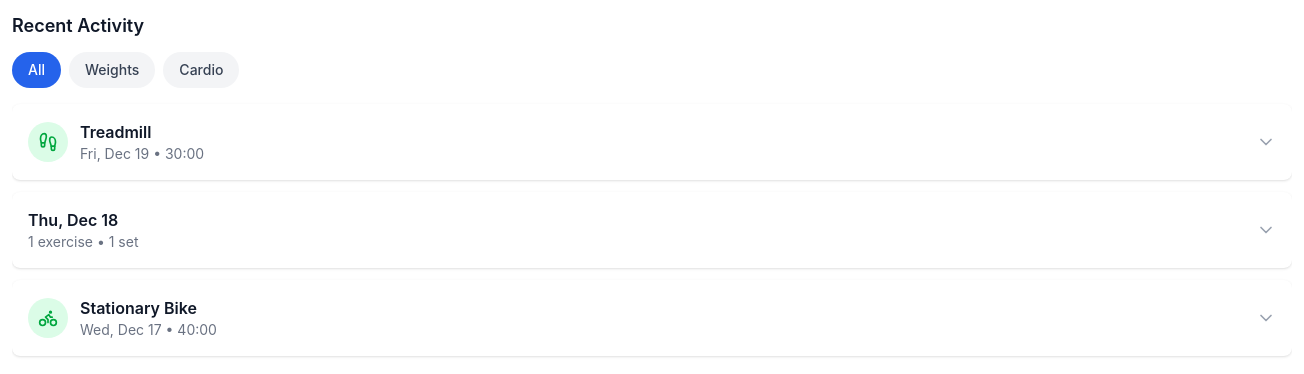
Test: ActivityList › should show all activities when All filter is clicked
// First filter to cardio
What coordinates should you click on to do the following:
click the button "Cardio"
I would click on:
 (201, 70)
Its box is left=163, top=52, right=239, bottom=88.
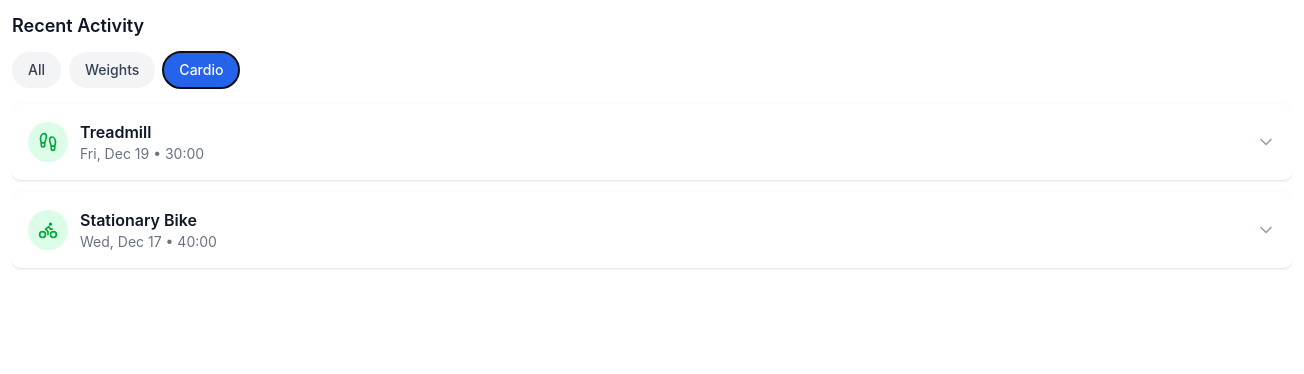
Expected: the button "1 exercise • 1 set" is gone
// Then back to all
What coordinates should you click on to do the following:
click the button "All"
I would click on:
 (36, 70)
Its box is left=12, top=52, right=61, bottom=88.
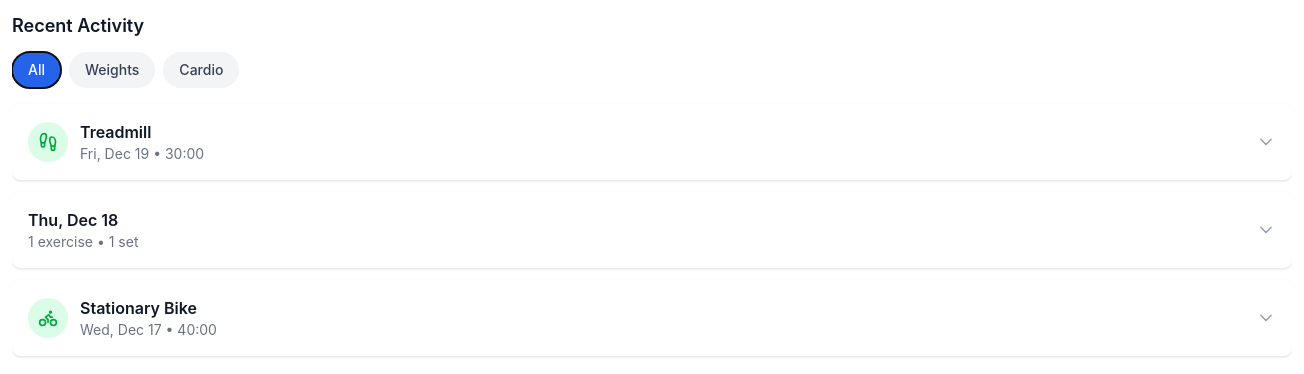
Expected: the text "Treadmill" is shown, left=80, top=122, right=151, bottom=142
Expected: the text "1 exercise • 1 set" is shown, left=28, top=232, right=138, bottom=252
